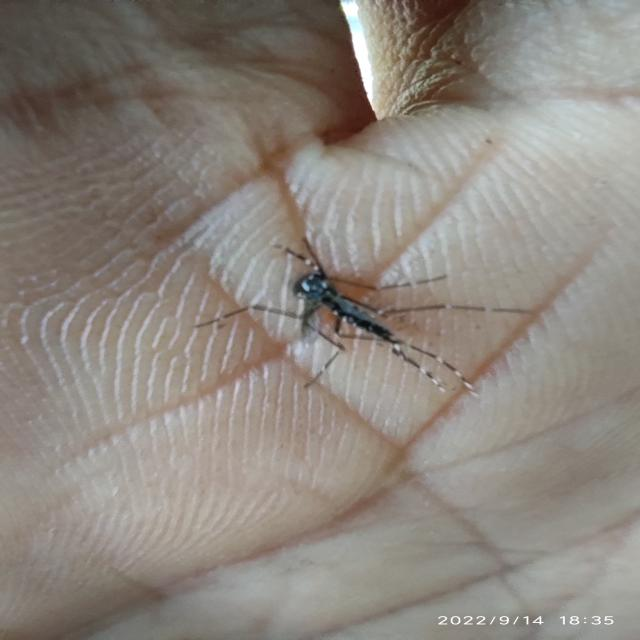albopictus: (188, 233, 538, 401)
